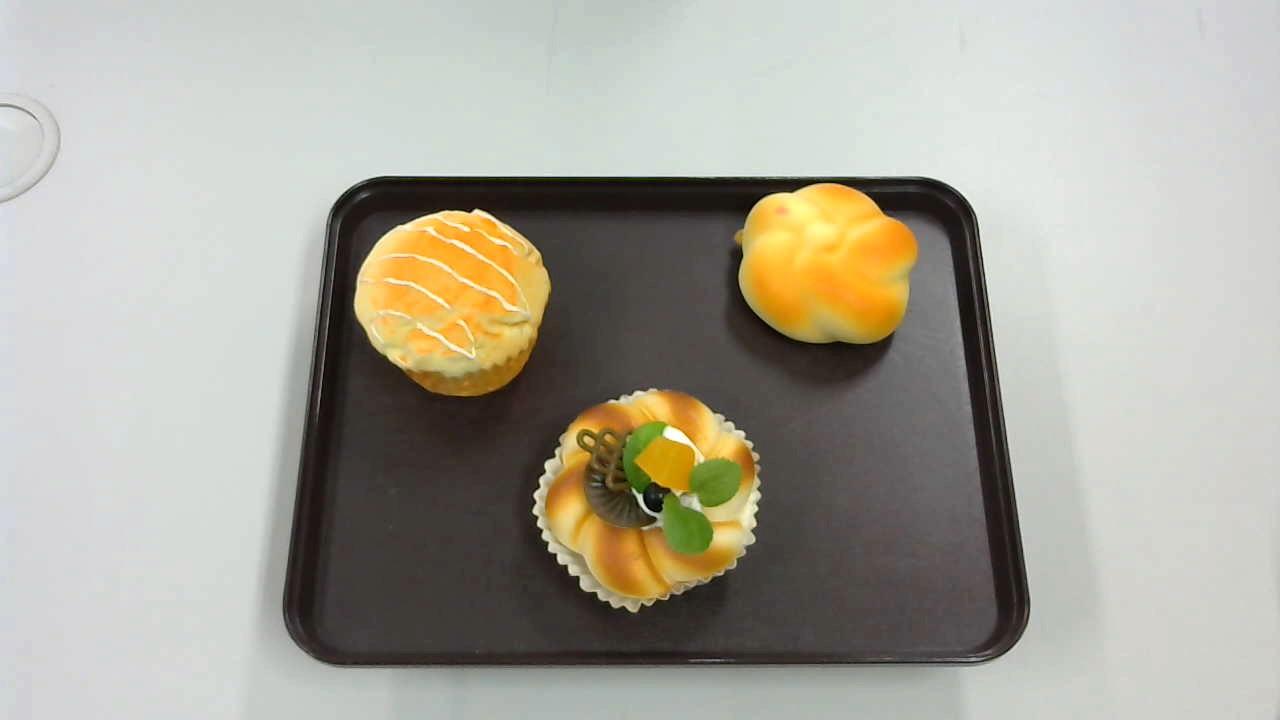croissant: (734, 184, 920, 345)
cupcake: (354, 208, 551, 397)
fruit tart: (532, 388, 761, 612)
